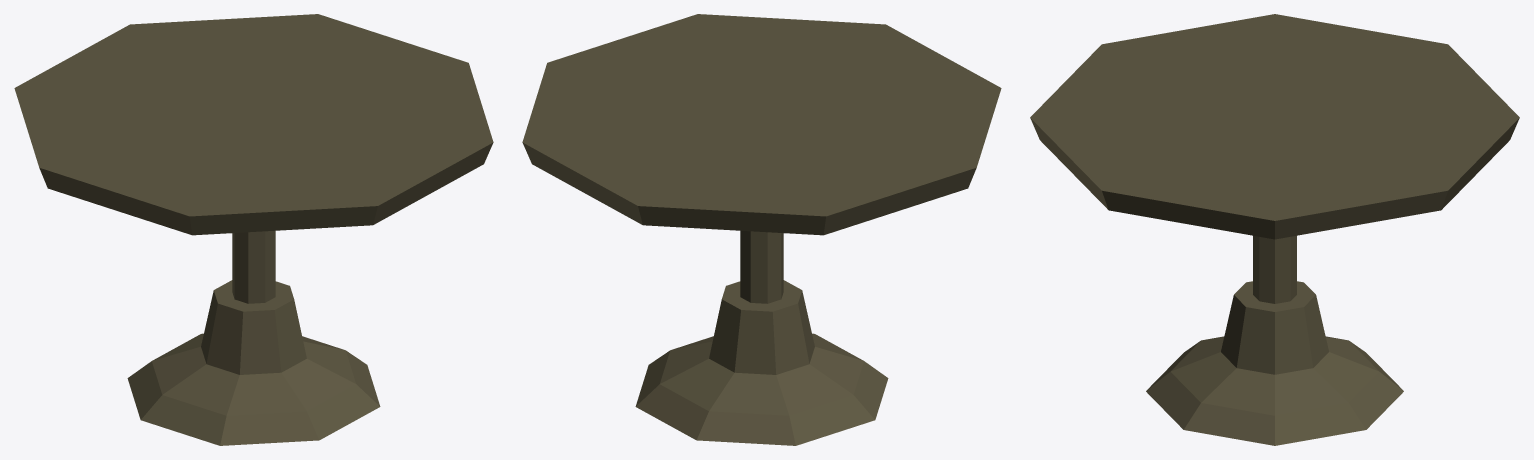
File: Light.fbx
3 views of the same model, side by side, from view 1: azimuth 30°, elevation 25°; view 2: azimuth 150°, elevation 25°; view 3: azimuth 270°, elevation 25° (orthographic).
Visible parts, largest first — view 1: 円柱; view 2: 円柱; view 3: 円柱.
Part boxes in pixels (bbox=[...]): 円柱: bbox=[14, 14, 493, 445]; 円柱: bbox=[522, 14, 1001, 445]; 円柱: bbox=[1030, 14, 1519, 445].
Bounding box in the file's own units: 0.6 × 0.413 × 0.6.
